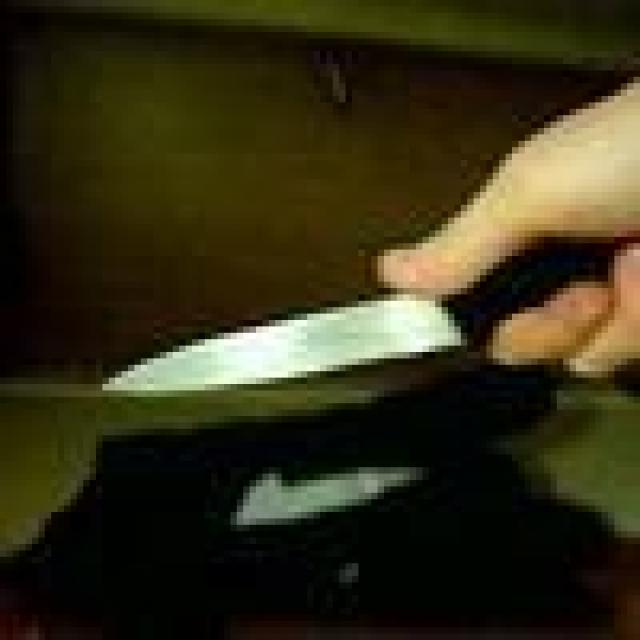senjata_tajam: (97, 276, 493, 394)
